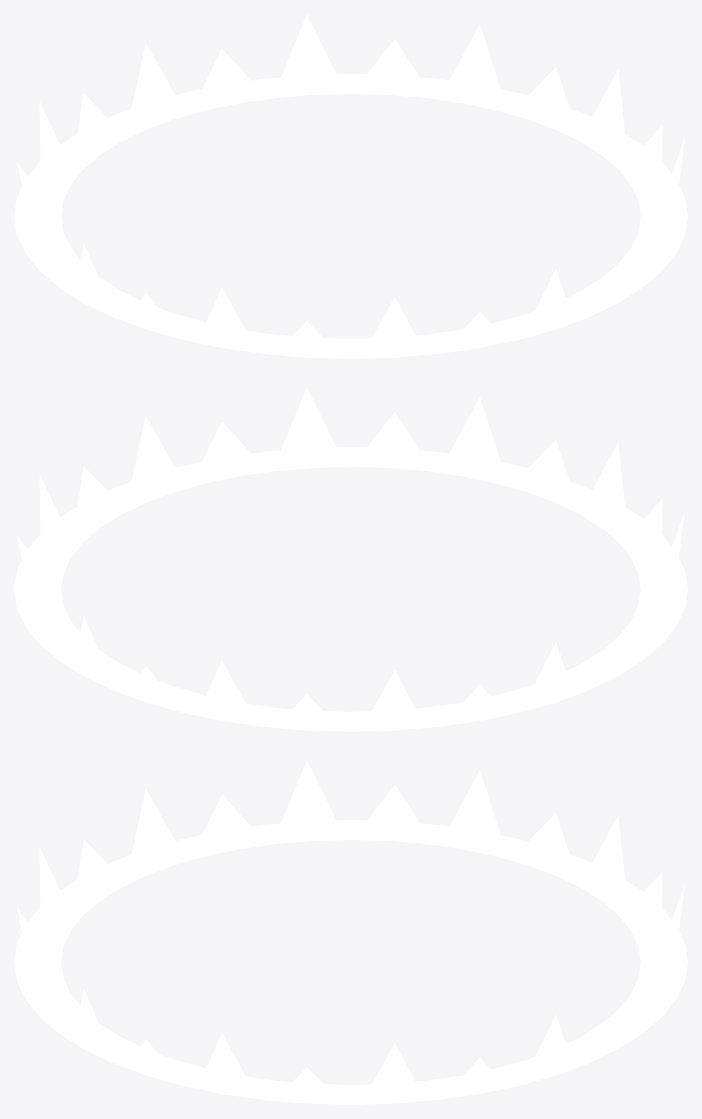
Rendered from ground_ring_heal.glb.
3 views of the same model, one above another, from view 1: azimuth 30°, elevation 25°; view 2: azimuth 150°, elevation 25°; view 3: azimuth 270°, elevation 25° (orthographic).
Visible parts, largest first — view 1: ground_ring_heal; view 2: ground_ring_heal; view 3: ground_ring_heal.
Boxes of the visible parts, x1=… form: ground_ring_heal: x1=14, y1=14, x2=687, y2=358; ground_ring_heal: x1=14, y1=387, x2=687, y2=731; ground_ring_heal: x1=14, y1=760, x2=687, y2=1104.
Size of the model in its own units: 2 by 0.2 by 2.
1 material, 1 textured.
